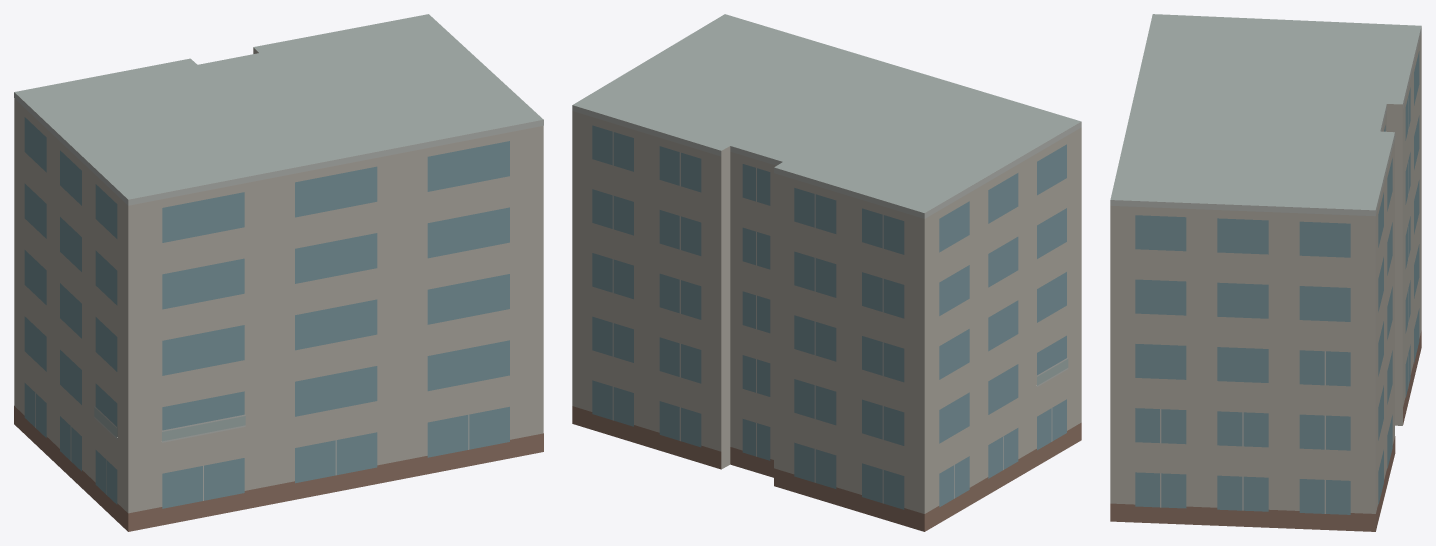
The model's file is survey-upis-32671872.glb.
The picture shows the model from 3 angles, left to right: view 1: azimuth 30°, elevation 25°; view 2: azimuth 150°, elevation 25°; view 3: azimuth 270°, elevation 25°; orthographic projection. The views are drawn at different scales.
Parts seen in each view (by area): view 1: survey-upis-32671872.tmp; view 2: survey-upis-32671872.tmp; view 3: survey-upis-32671872.tmp.
Boxes of the visible parts, box(x1,y1,x2,y2) form: survey-upis-32671872.tmp: box(14, 14, 543, 531); survey-upis-32671872.tmp: box(572, 14, 1081, 531); survey-upis-32671872.tmp: box(1110, 14, 1421, 531).
Size of the model in its own units: 17.63 by 13.45 by 11.81.
